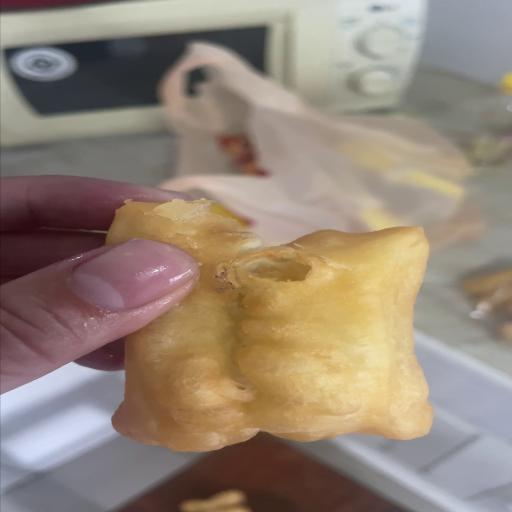street_golden_defect: (104, 197, 432, 451)
